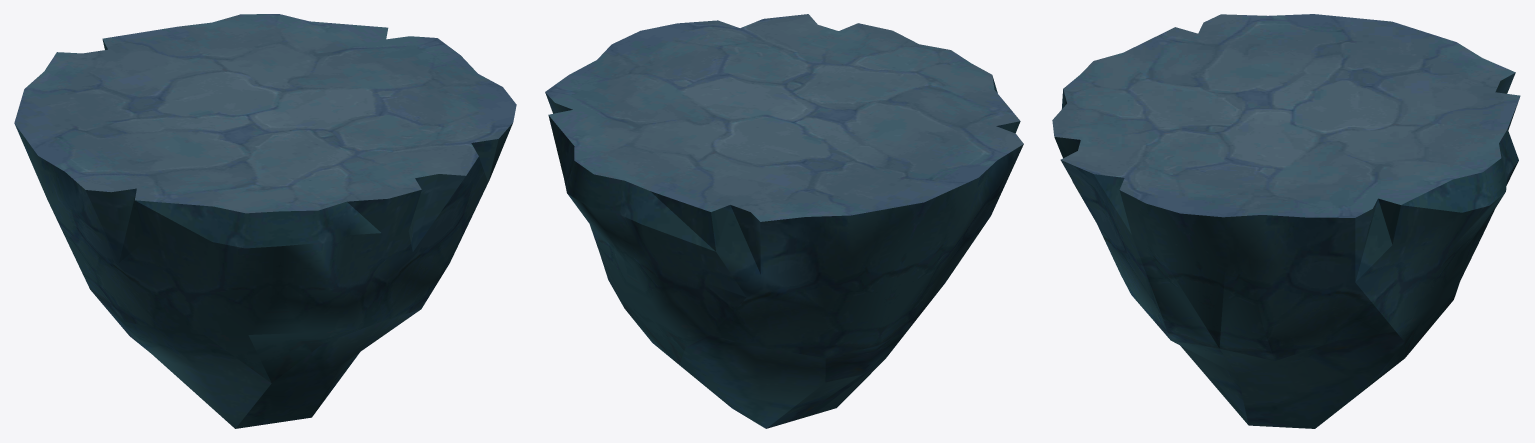
The model's file is map_111_shitou_1.fbx.
3 views of the same model, side by side, from view 1: azimuth 30°, elevation 25°; view 2: azimuth 150°, elevation 25°; view 3: azimuth 270°, elevation 25° (orthographic).
Parts seen in each view (by area): view 1: map_111_shitou_1; view 2: map_111_shitou_1; view 3: map_111_shitou_1.
Part boxes in pixels (x1,y1,x2,y2): map_111_shitou_1: (14, 14, 516, 428); map_111_shitou_1: (545, 14, 1023, 428); map_111_shitou_1: (1052, 14, 1520, 428).
Size of the model in its own units: 2.75 by 1.85 by 2.67.
